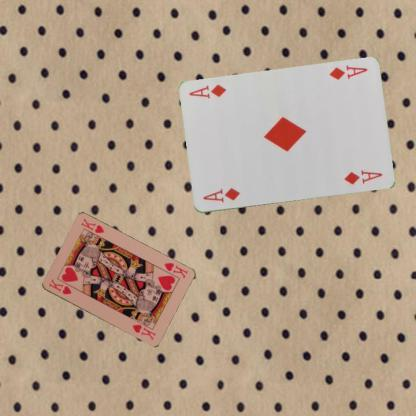Ad: (200, 185, 241, 204), (326, 63, 368, 81)
Kh: (161, 260, 189, 280), (46, 276, 72, 297)
